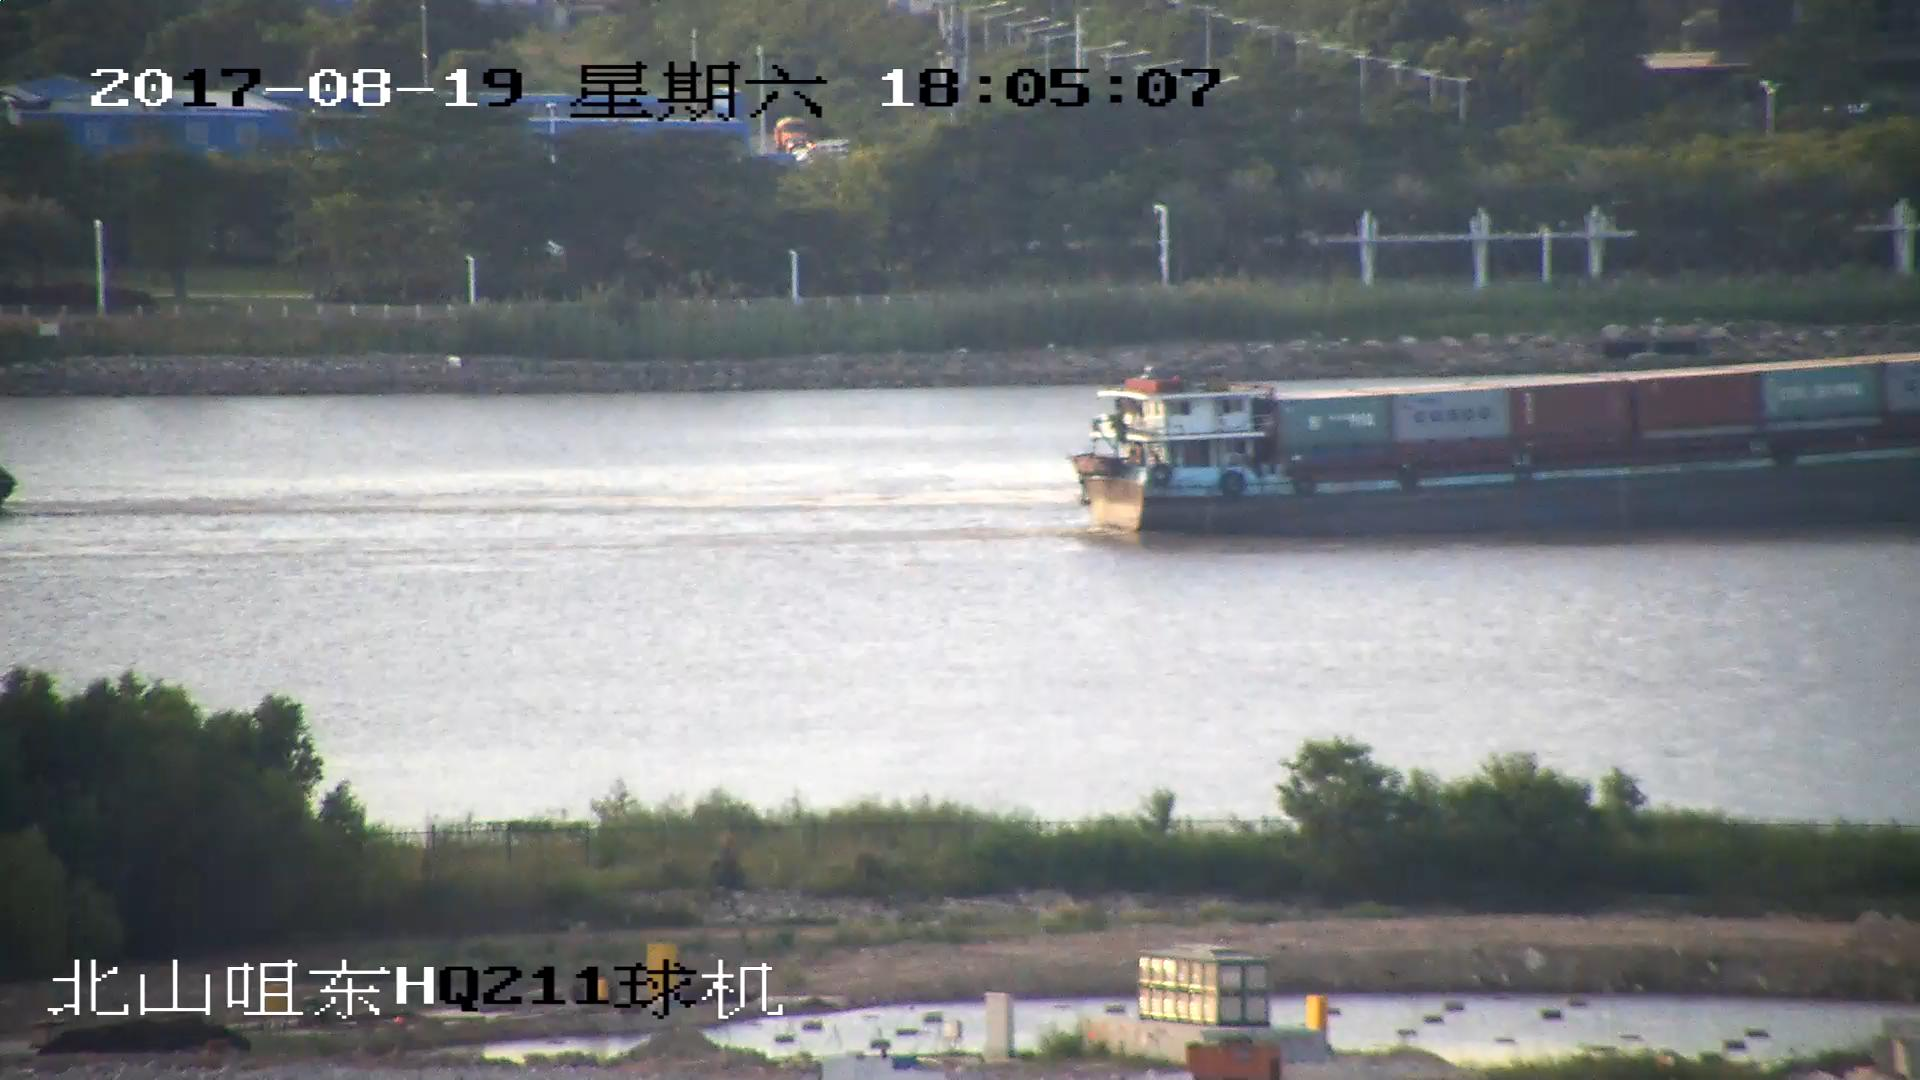container ship: (1069, 350, 1920, 535)
